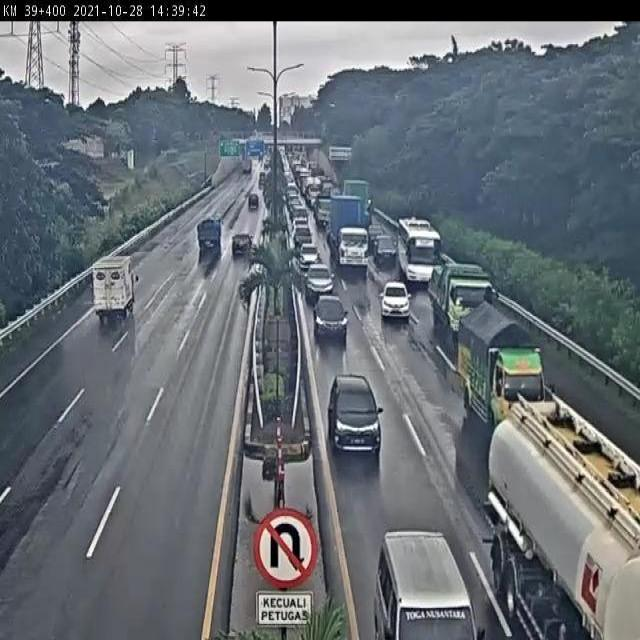big bus: (398, 219, 438, 284)
big truck: (485, 406, 640, 640), (328, 191, 367, 268)
car: (324, 370, 382, 450), (310, 294, 349, 342), (304, 260, 332, 299), (378, 283, 410, 317), (225, 236, 252, 263), (371, 229, 394, 259), (297, 236, 320, 263), (242, 197, 259, 219)
mid truck: (429, 261, 496, 332)
small truck: (73, 265, 127, 343), (195, 219, 220, 257)
truck-m-: (453, 311, 551, 429)
